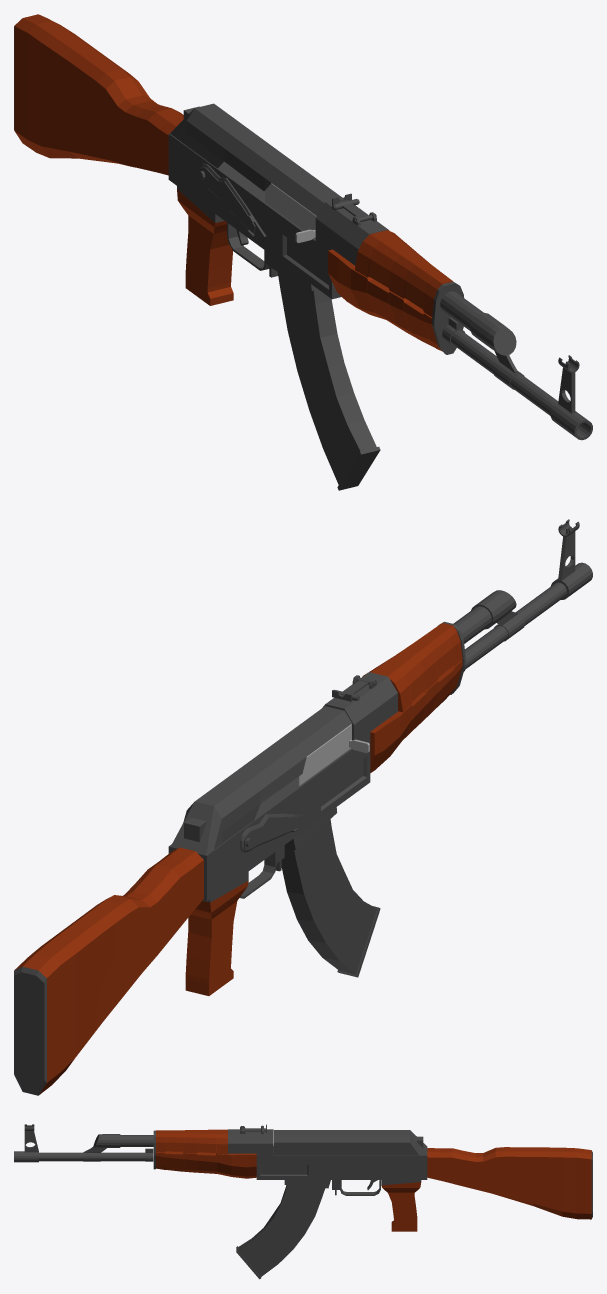
The picture shows the model from 3 angles, top to bottom: view 1: azimuth 30°, elevation 25°; view 2: azimuth 150°, elevation 25°; view 3: azimuth 270°, elevation 25°; orthographic projection. The views are drawn at different scales.
Visible parts, largest first — view 1: Cubo.009, Cubo.003, Cilindro.001, Cubo.001, Cubo.002, Cubo.006; view 2: Cubo.009, Cubo.003, Cilindro.001, Cubo.001, Cubo.002; view 3: Cubo.009, Cubo.003, Cilindro.001.
Boxes of the visible parts, left/top/right/bottom form: Cubo.009: left=14, top=14, right=452, bottom=351; Cubo.003: left=277, top=272, right=380, bottom=490; Cilindro.001: left=440, top=291, right=592, bottom=440; Cubo.001: left=198, top=163, right=266, bottom=243; Cubo.002: left=265, top=183, right=316, bottom=242; Cubo.006: left=432, top=281, right=463, bottom=354; Cubo.009: left=14, top=623, right=462, bottom=1095; Cubo.003: left=281, top=819, right=380, bottom=977; Cilindro.001: left=453, top=519, right=592, bottom=671; Cubo.001: left=240, top=813, right=307, bottom=852; Cubo.002: left=298, top=724, right=369, bottom=785; Cubo.009: left=156, top=1126, right=592, bottom=1231; Cubo.003: left=236, top=1185, right=325, bottom=1279; Cilindro.001: left=14, top=1124, right=153, bottom=1162.
Bounding box in the file's own units: 97.28 × 441 × 1528.
